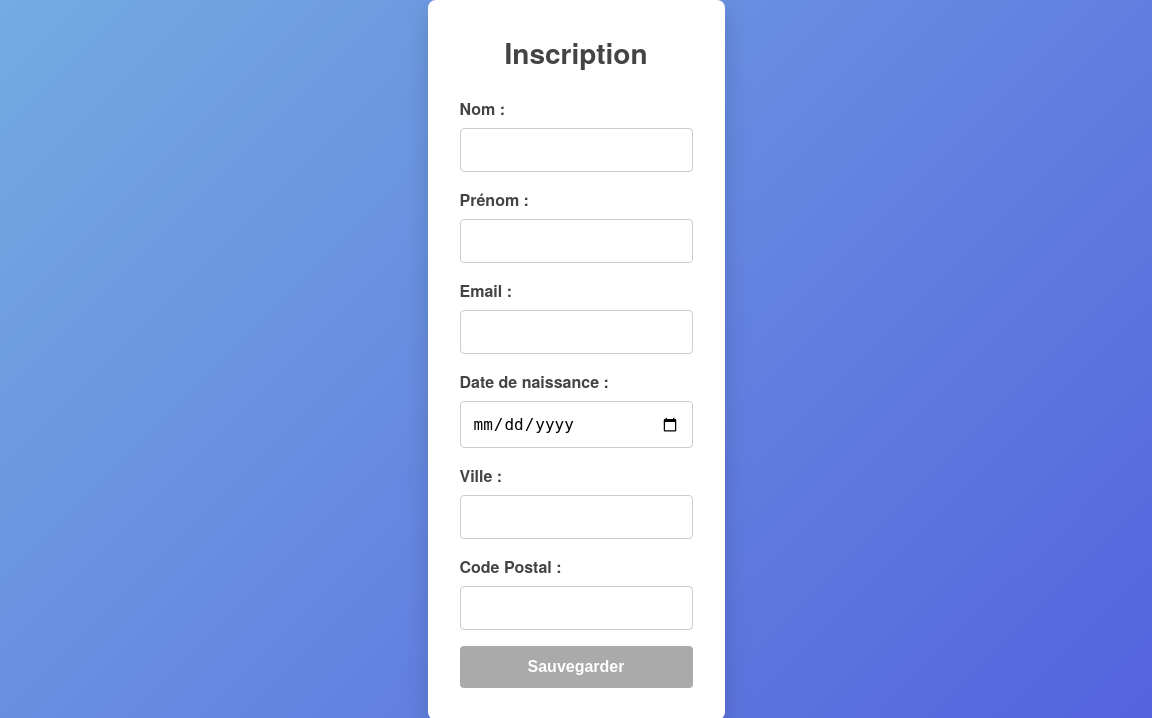
RegistrationForm Integration Tests › Soumission réussie: sauvegarde dans le localStorage, toaster de succès, champs vidés
Type "Dupont" into the field labelled "Nom :" at (576, 150), box top-left (460, 128), bottom-right (692, 172)
Type "Jean" into the field labelled "Prénom :" at (576, 241), box top-left (460, 219), bottom-right (692, 263)
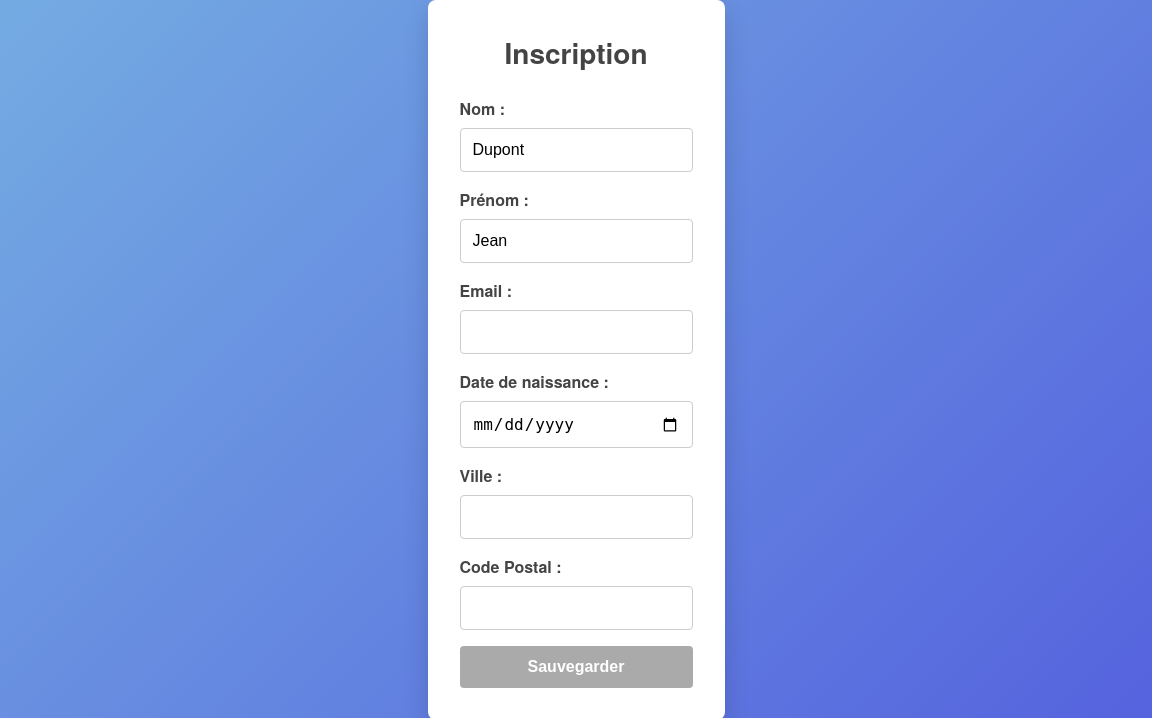
Type "jean.dupont@example.com" into the field labelled "Email :" at (576, 332), box top-left (460, 310), bottom-right (692, 354)
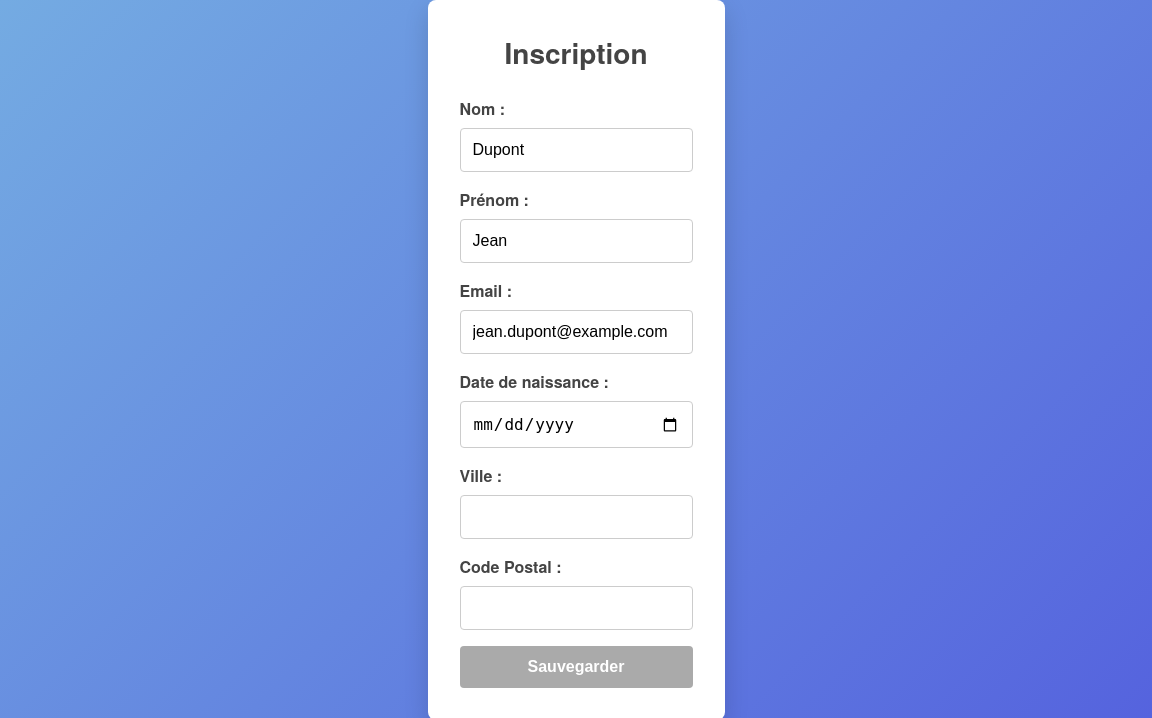
Type "1990-01-01" into the date field labelled "Date de naissance :" at (576, 424), box top-left (460, 401), bottom-right (692, 448)
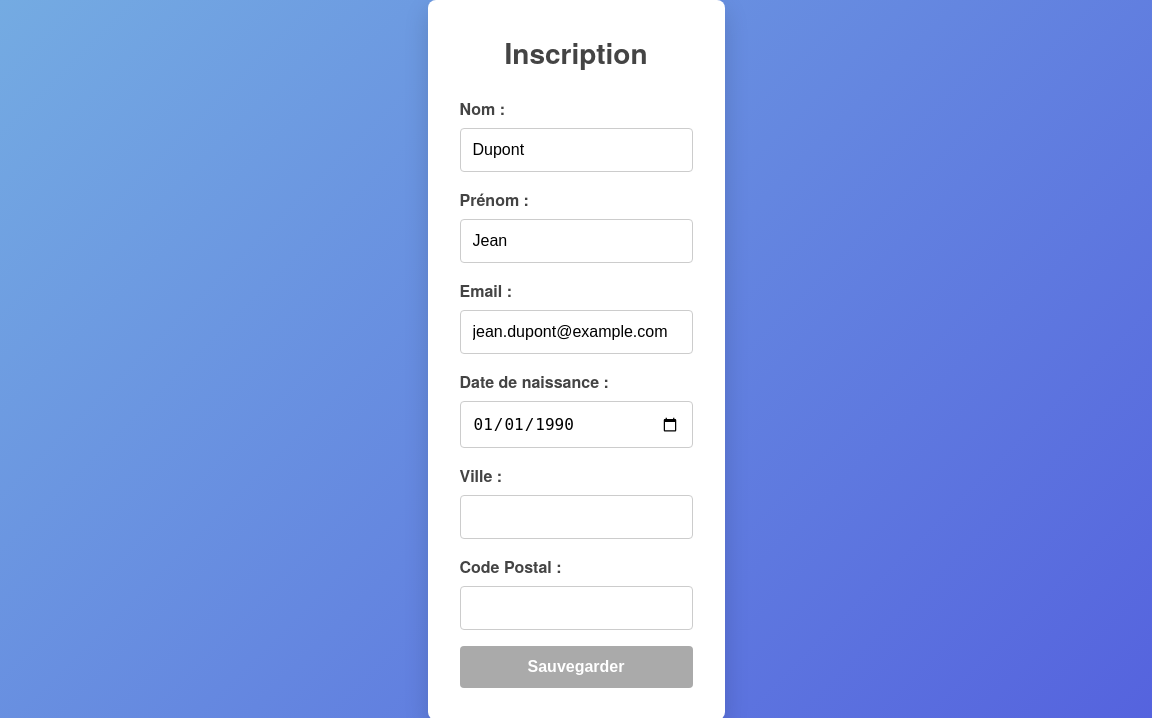
Type "Lyon" into the field labelled "Ville :" at (576, 517), box top-left (460, 495), bottom-right (692, 539)
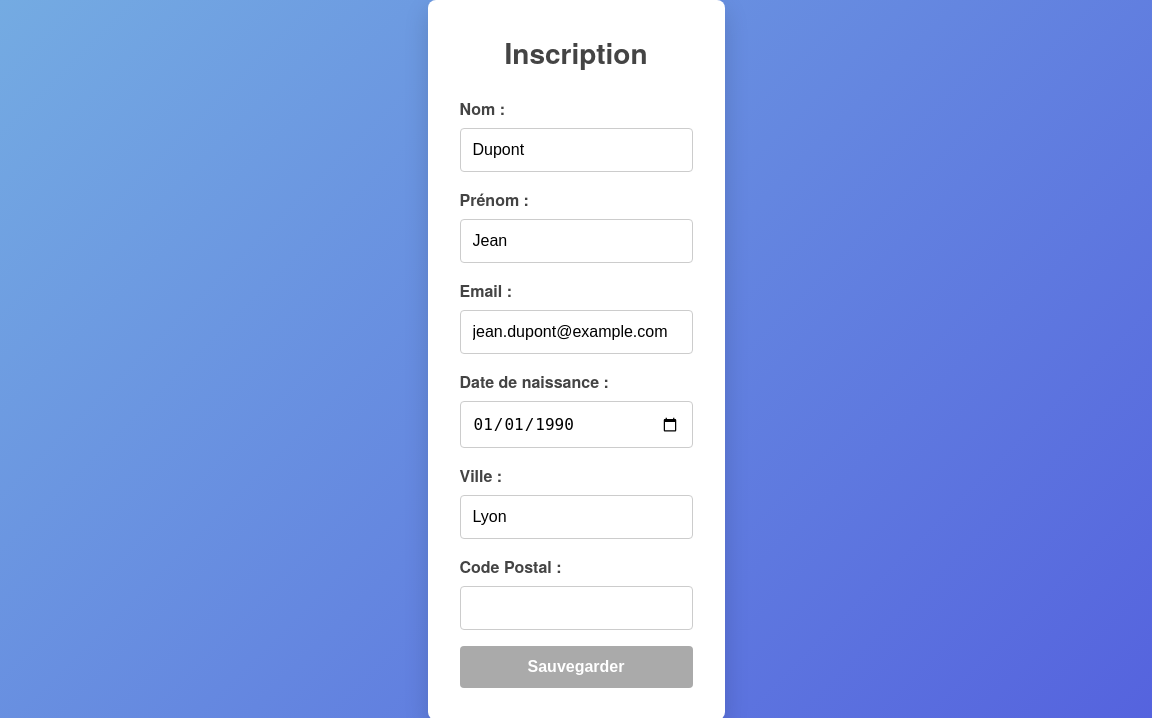
Type "69000" into the field labelled "Code Postal :" at (576, 608), box top-left (460, 586), bottom-right (692, 630)
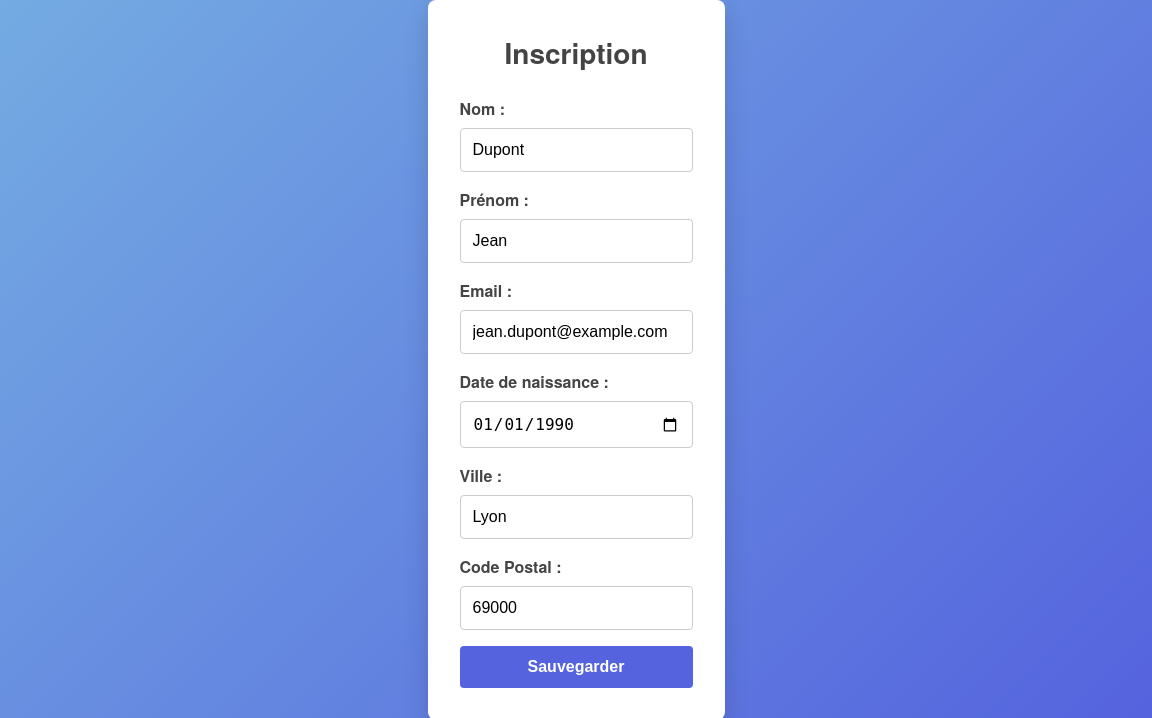
Click the button "Sauvegarder" at (576, 667), box top-left (460, 646), bottom-right (692, 688)
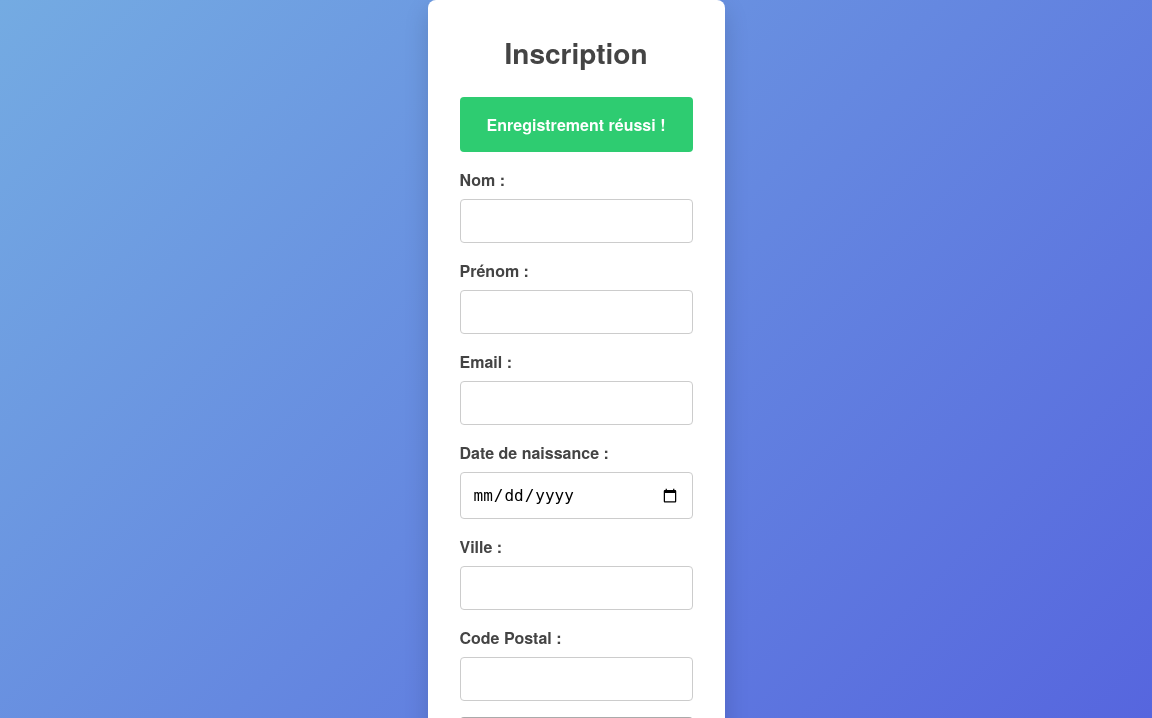
Expected: the text "Enregistrement réussi !" is shown, top-left (460, 97), bottom-right (692, 152)
Expected: the field labelled "Nom :" is empty, top-left (460, 199), bottom-right (692, 243)
Expected: the field labelled "Prénom :" is empty, top-left (460, 290), bottom-right (692, 334)
